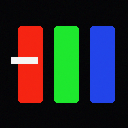3 line_h: (11, 57, 37, 63)
